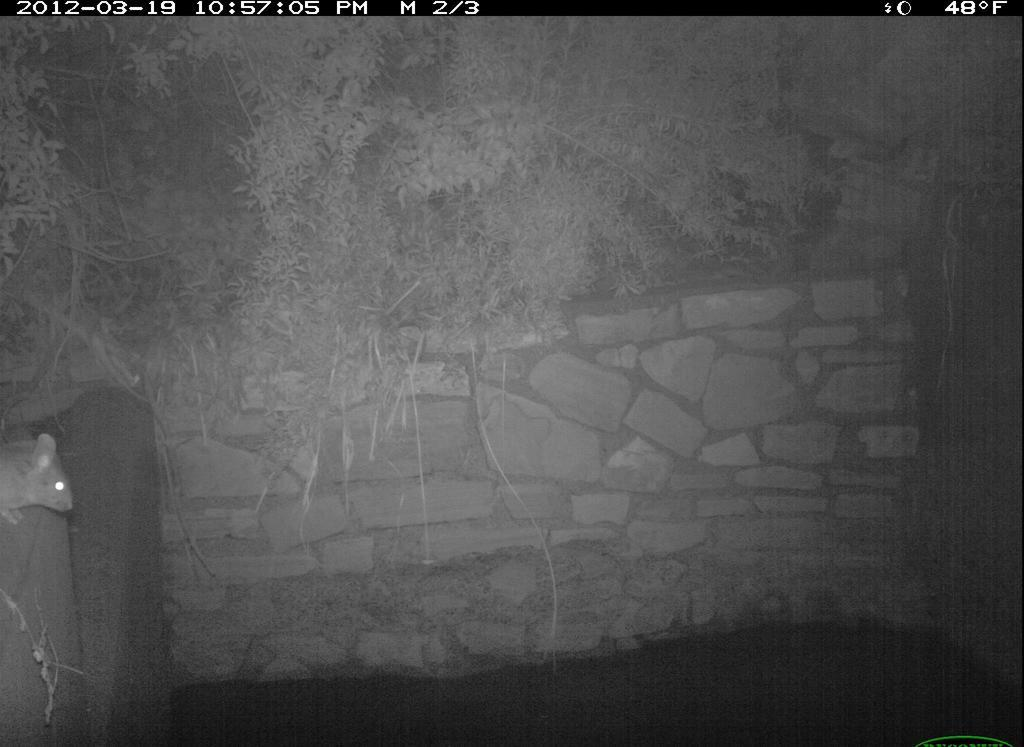rodent: (1, 428, 80, 528)
